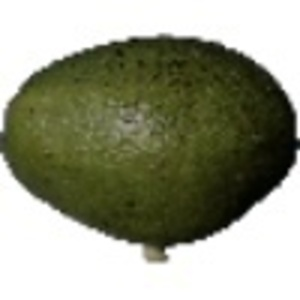abacate: (3, 31, 297, 249)
